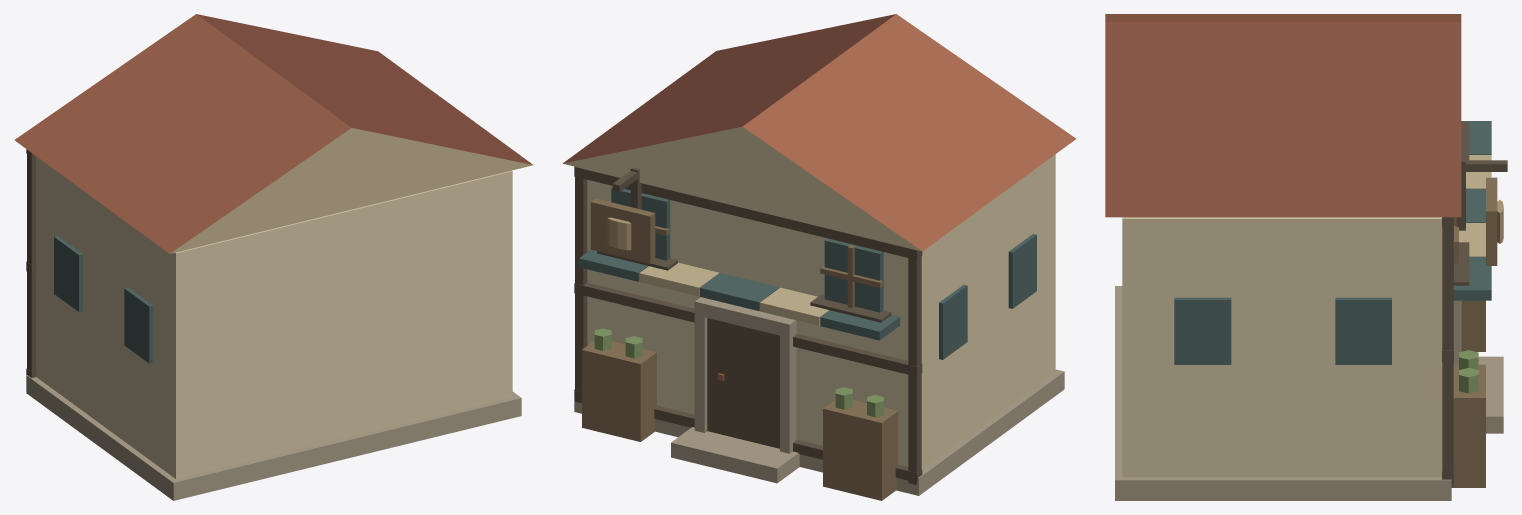
The model's file is Town_Shop.fbx.
The picture shows the model from 3 angles, left to right: view 1: azimuth 30°, elevation 25°; view 2: azimuth 150°, elevation 25°; view 3: azimuth 270°, elevation 25°; orthographic projection. The views are drawn at different scales.
Parts seen in each view (by area): view 1: Town_Shop; view 2: Town_Shop; view 3: Town_Shop.
Boxes of the visible parts, box(x1,y1,x2,y2) form: Town_Shop: box(14, 14, 533, 500); Town_Shop: box(563, 14, 1076, 500); Town_Shop: box(1105, 14, 1507, 500).
Size of the model in its own units: 5.08 by 4.45 by 4.25.
